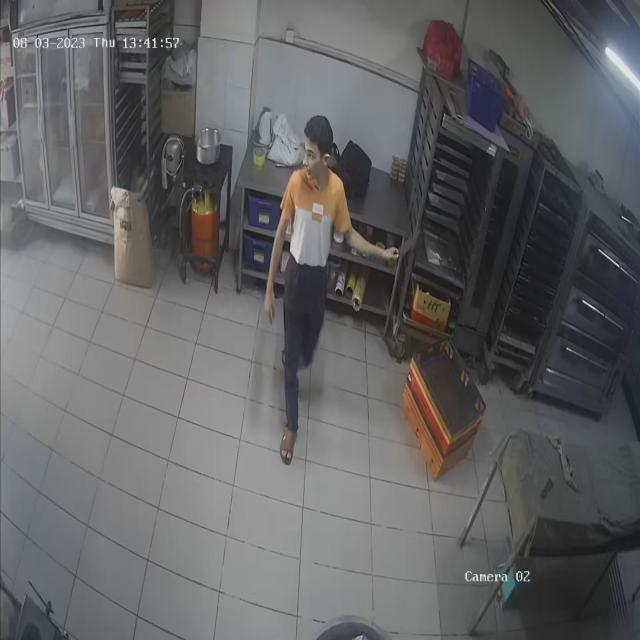Knife: (385, 213, 430, 266)
